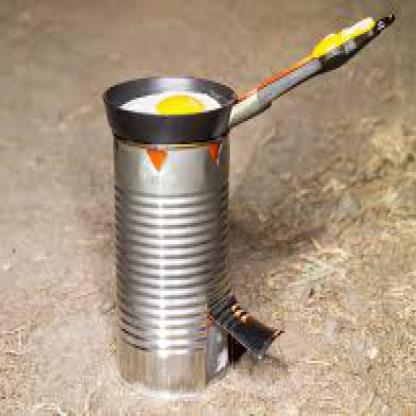BIODEGRADABLE: (120, 87, 218, 113)
METAL: (112, 136, 285, 384)
